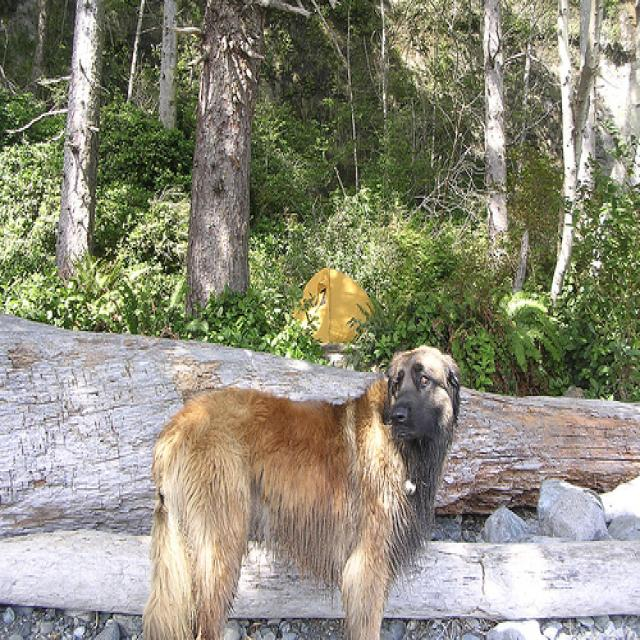dog-leonberger: (133, 341, 470, 637)
